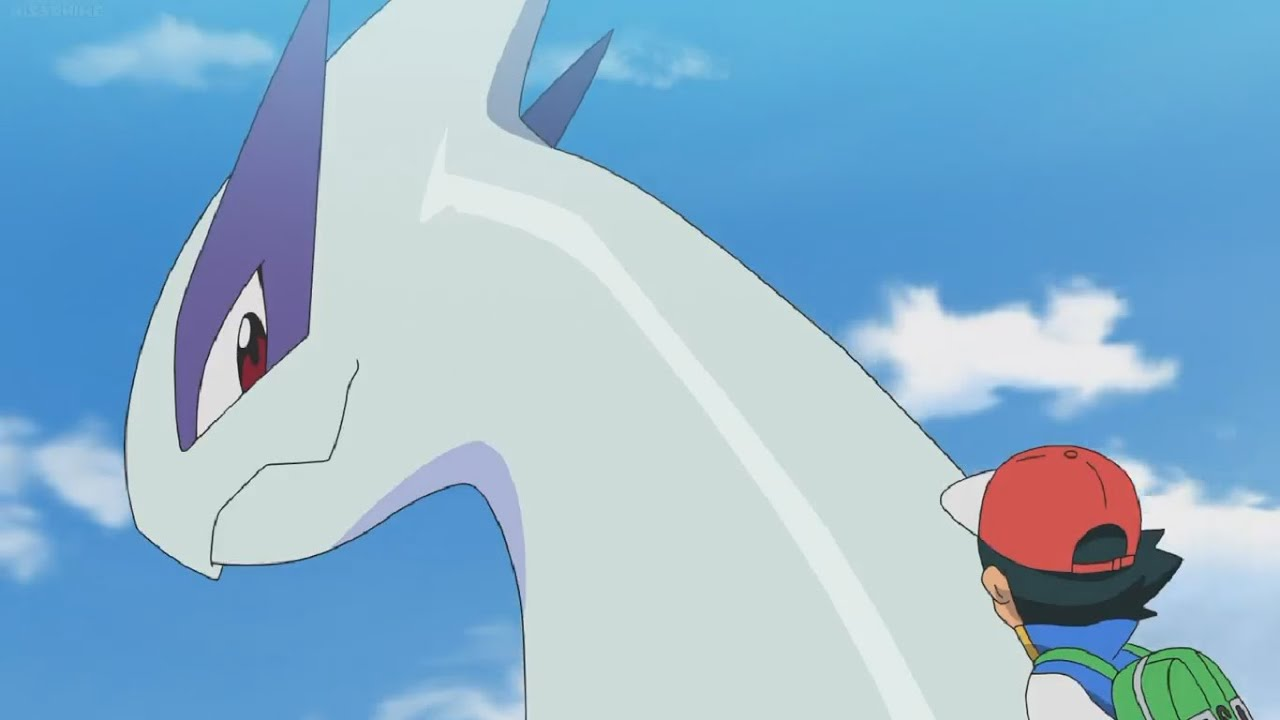lugia: (123, 2, 642, 583)
